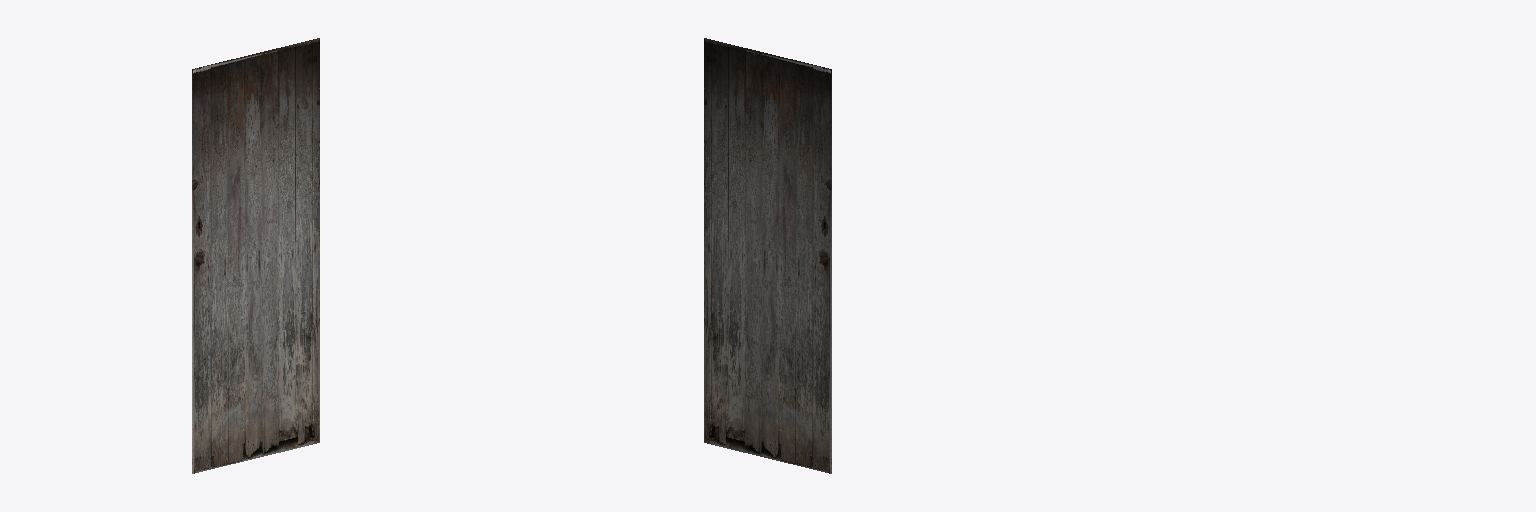
The picture shows the model from 3 angles: view 1: azimuth 30°, elevation 25°; view 2: azimuth 150°, elevation 25°; view 3: azimuth 270°, elevation 25°; orthographic projection.
Parts seen in each view (by area): view 1: Mesh_wall7; view 2: Mesh_wall7; view 3: none.
Part boxes in pixels (bbox=[...]): Mesh_wall7: bbox=[192, 38, 319, 473]; Mesh_wall7: bbox=[704, 38, 831, 473].
Bounding box in the file's own units: 0.9 × 2.7 × 0.
1 materials, 1 textured.